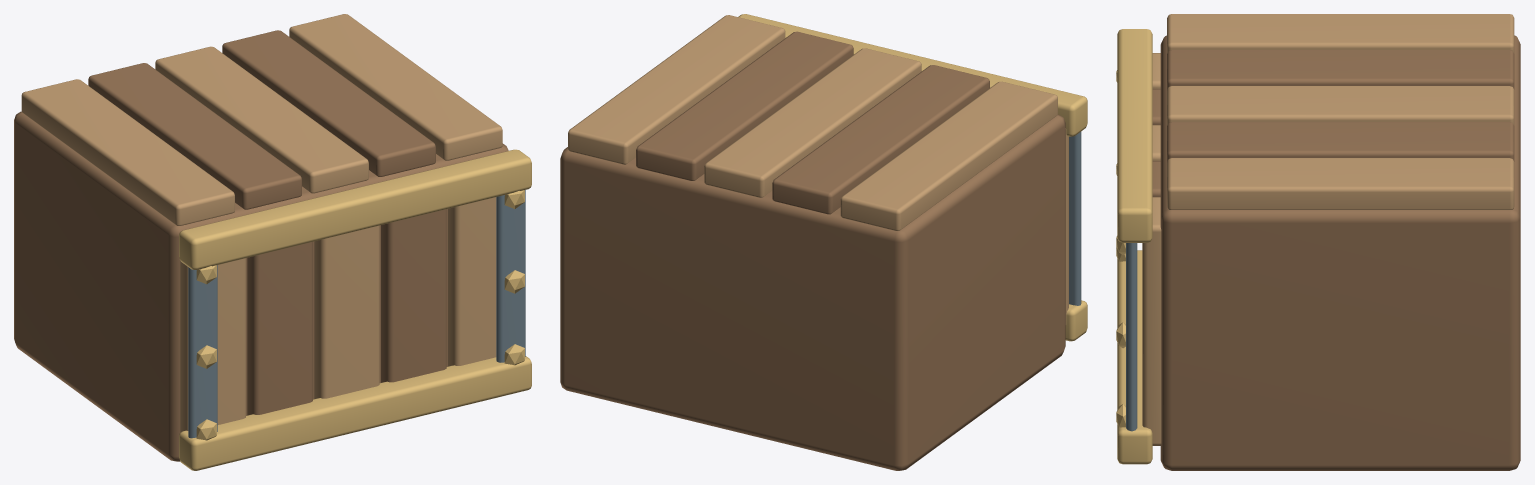
File: SM_OldSupplyCrate_01.fbx
3 renders of one model, left to right at view 1: azimuth 30°, elevation 25°; view 2: azimuth 150°, elevation 25°; view 3: azimuth 270°, elevation 25°, orthographic. The views are drawn at different scales.
Parts seen in each view (by area): view 1: SM_OldSupplyCrate_01; view 2: SM_OldSupplyCrate_01; view 3: SM_OldSupplyCrate_01.
Part boxes in pixels (left/top/right/bottom): SM_OldSupplyCrate_01: left=14, top=14, right=531, bottom=470; SM_OldSupplyCrate_01: left=560, top=14, right=1087, bottom=470; SM_OldSupplyCrate_01: left=1116, top=14, right=1520, bottom=470.
Bounding box in the file's own units: 1.35 × 0.9725 × 1.26.
